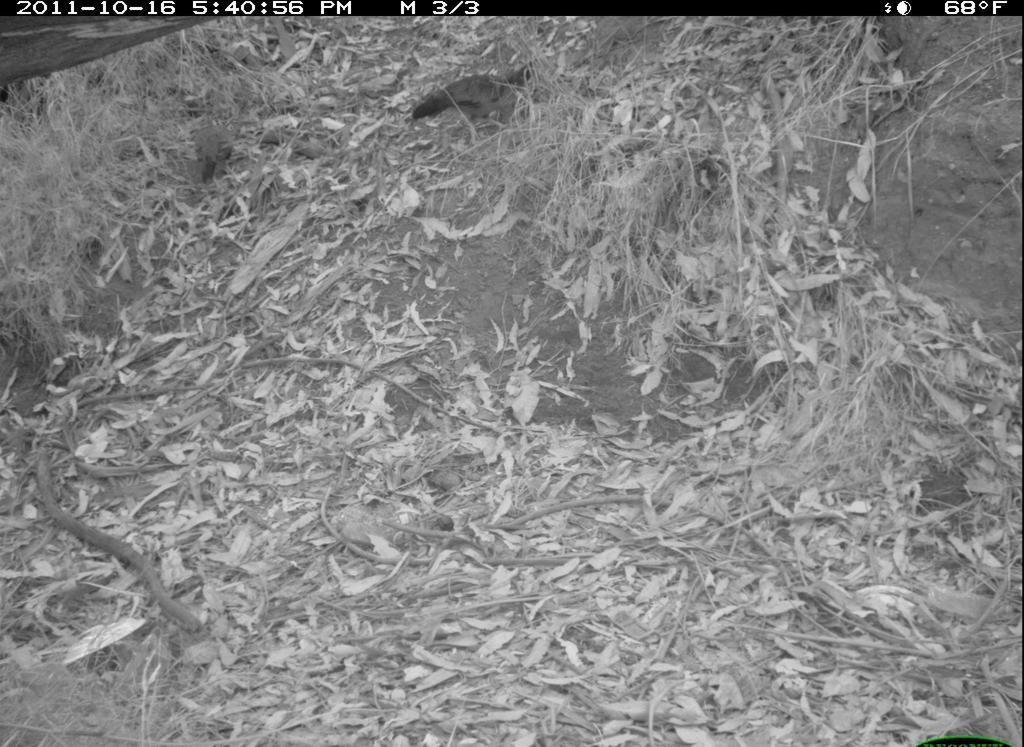bird: (413, 50, 546, 142)
